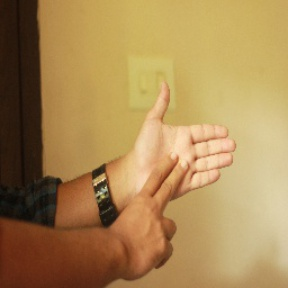N: (118, 83, 239, 272)
